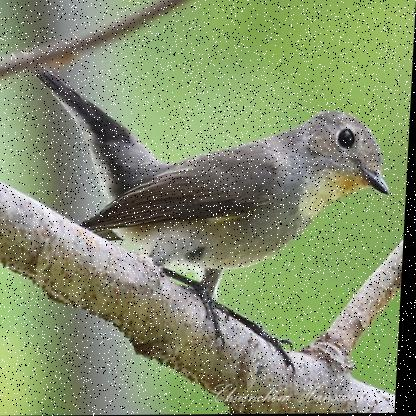Burung: (0, 37, 399, 379)
